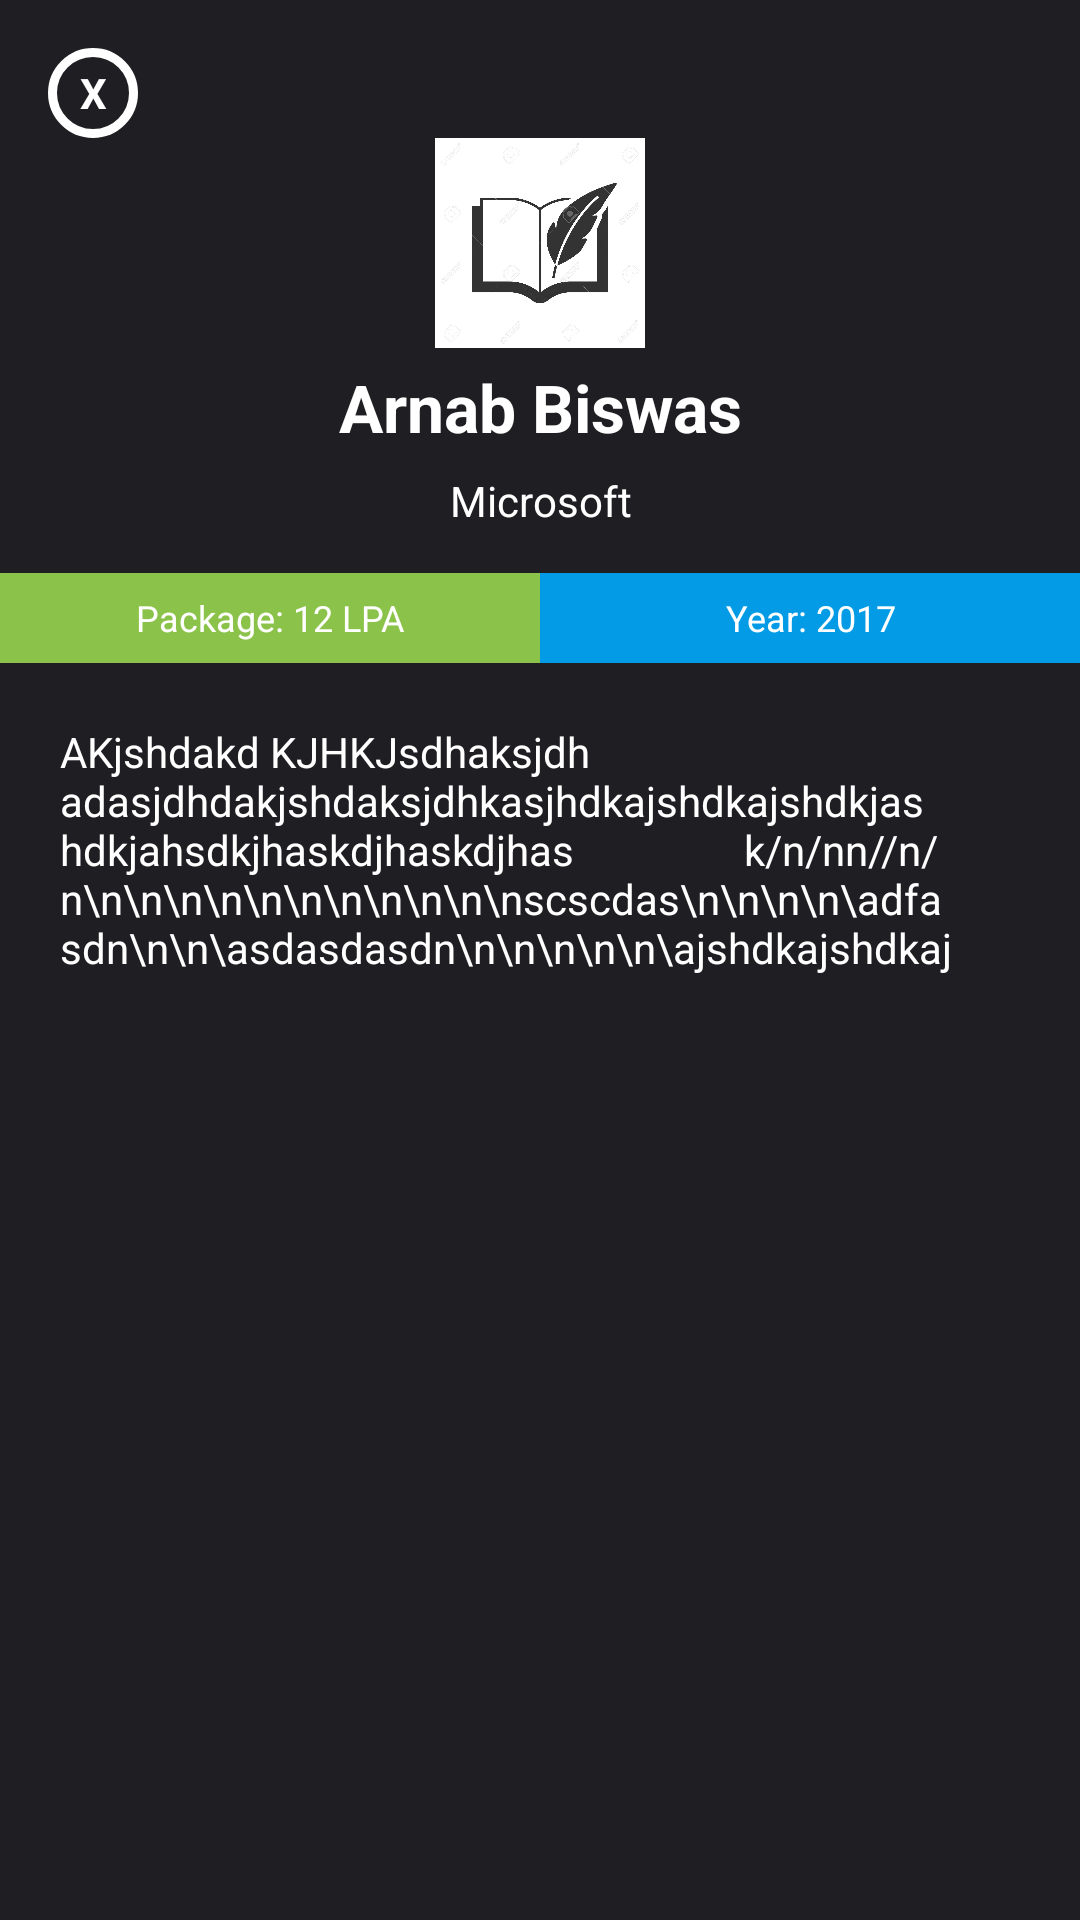

Named icons in this screenshot (1080w x 1920h) and their centers, point (x, y):
book: point (540, 243)
